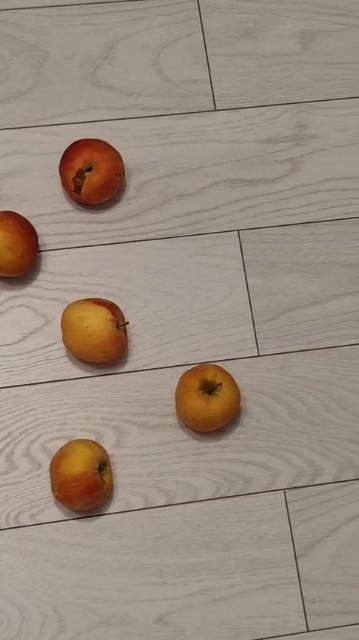apple_red: (47, 436, 114, 511), (60, 297, 129, 363), (175, 364, 241, 433), (58, 138, 125, 205), (0, 210, 39, 277)
